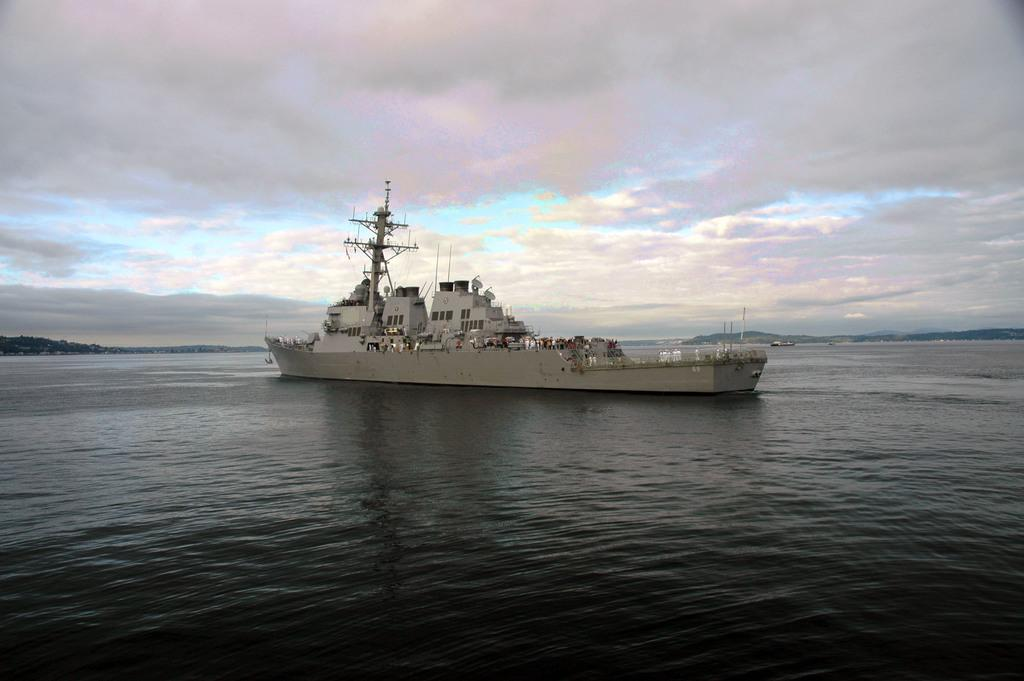Warship: (257, 194, 775, 400)
